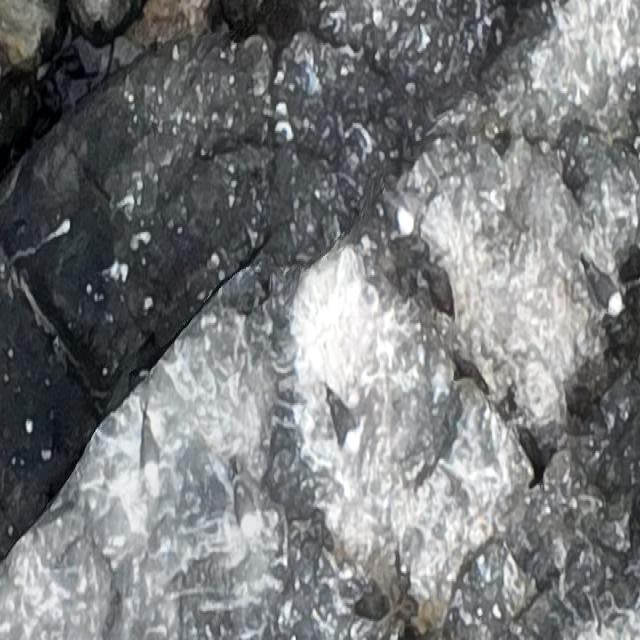umineko: (330, 397, 361, 452), (235, 480, 258, 535), (590, 270, 619, 312), (141, 423, 159, 485), (389, 200, 416, 232)
